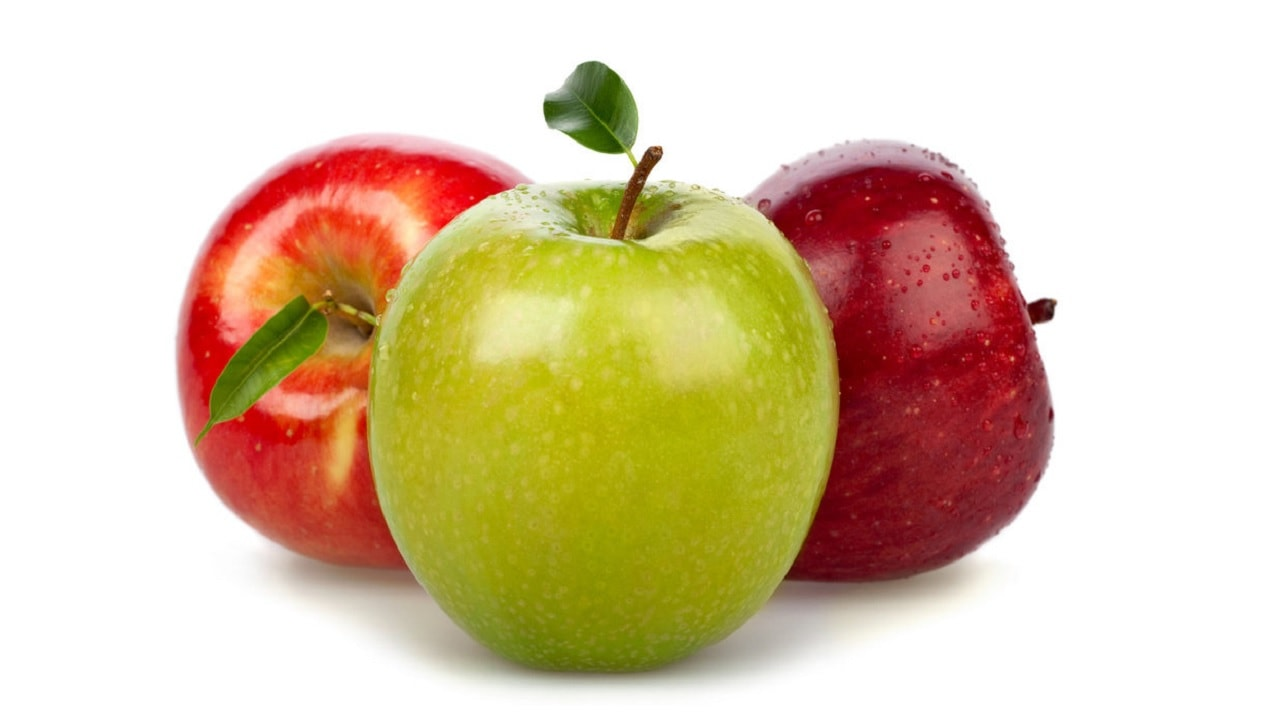apple: (364, 175, 848, 677), (165, 123, 516, 577), (747, 137, 1062, 592)
